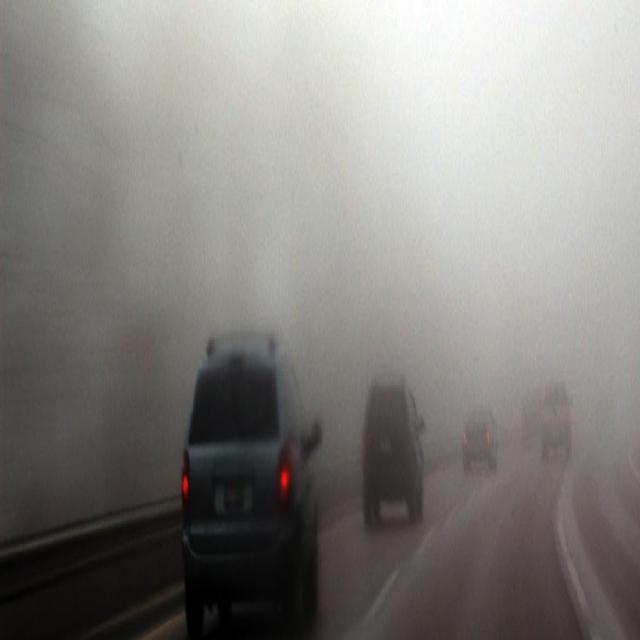Car: (180, 323, 324, 632), (361, 378, 427, 521), (456, 402, 501, 474)
